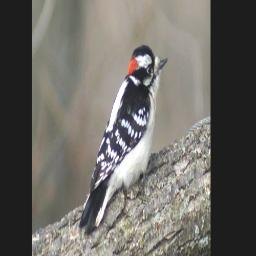Woodpecker: (77, 45, 168, 235)
